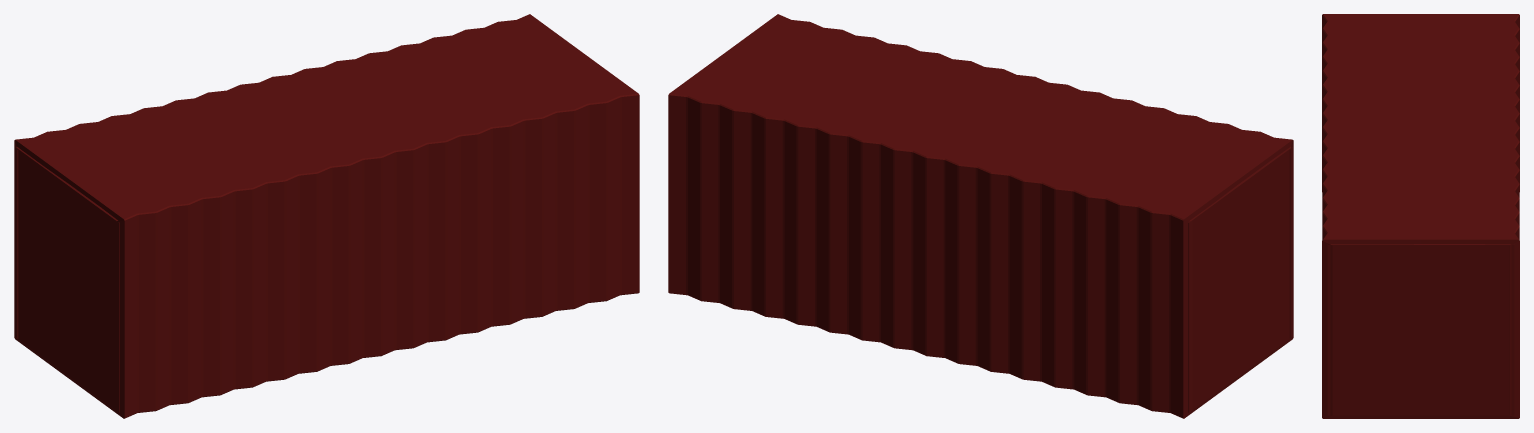
Rendered from shipment_closed_red.glb.
The picture shows the model from 3 angles, left to right: view 1: azimuth 30°, elevation 25°; view 2: azimuth 150°, elevation 25°; view 3: azimuth 270°, elevation 25°; orthographic projection. The views are drawn at different scales.
Visible parts, largest first — view 1: shipment_closed_red; view 2: shipment_closed_red; view 3: shipment_closed_red.
Boxes of the visible parts, x1,y1,x2,y2 form: shipment_closed_red: (14, 14, 639, 418); shipment_closed_red: (668, 14, 1293, 418); shipment_closed_red: (1322, 14, 1519, 418).
Size of the model in its own units: 5.46 by 2 by 2.
